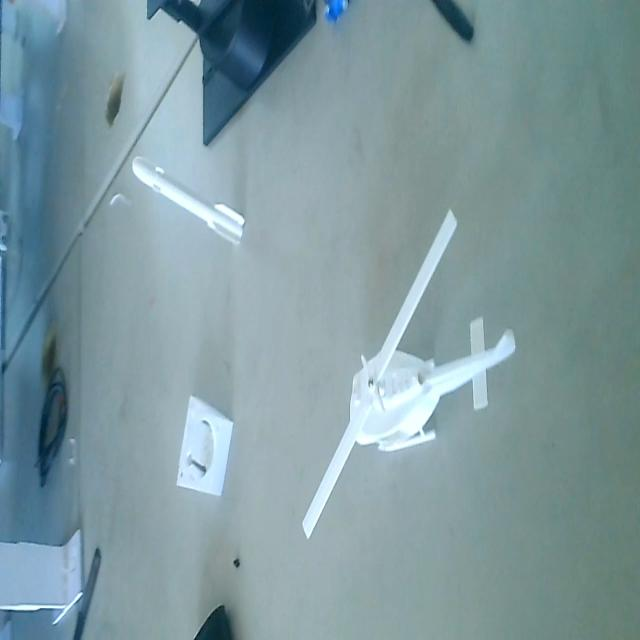Helicopter: (298, 208, 516, 559)
Rocket: (130, 154, 248, 250)
